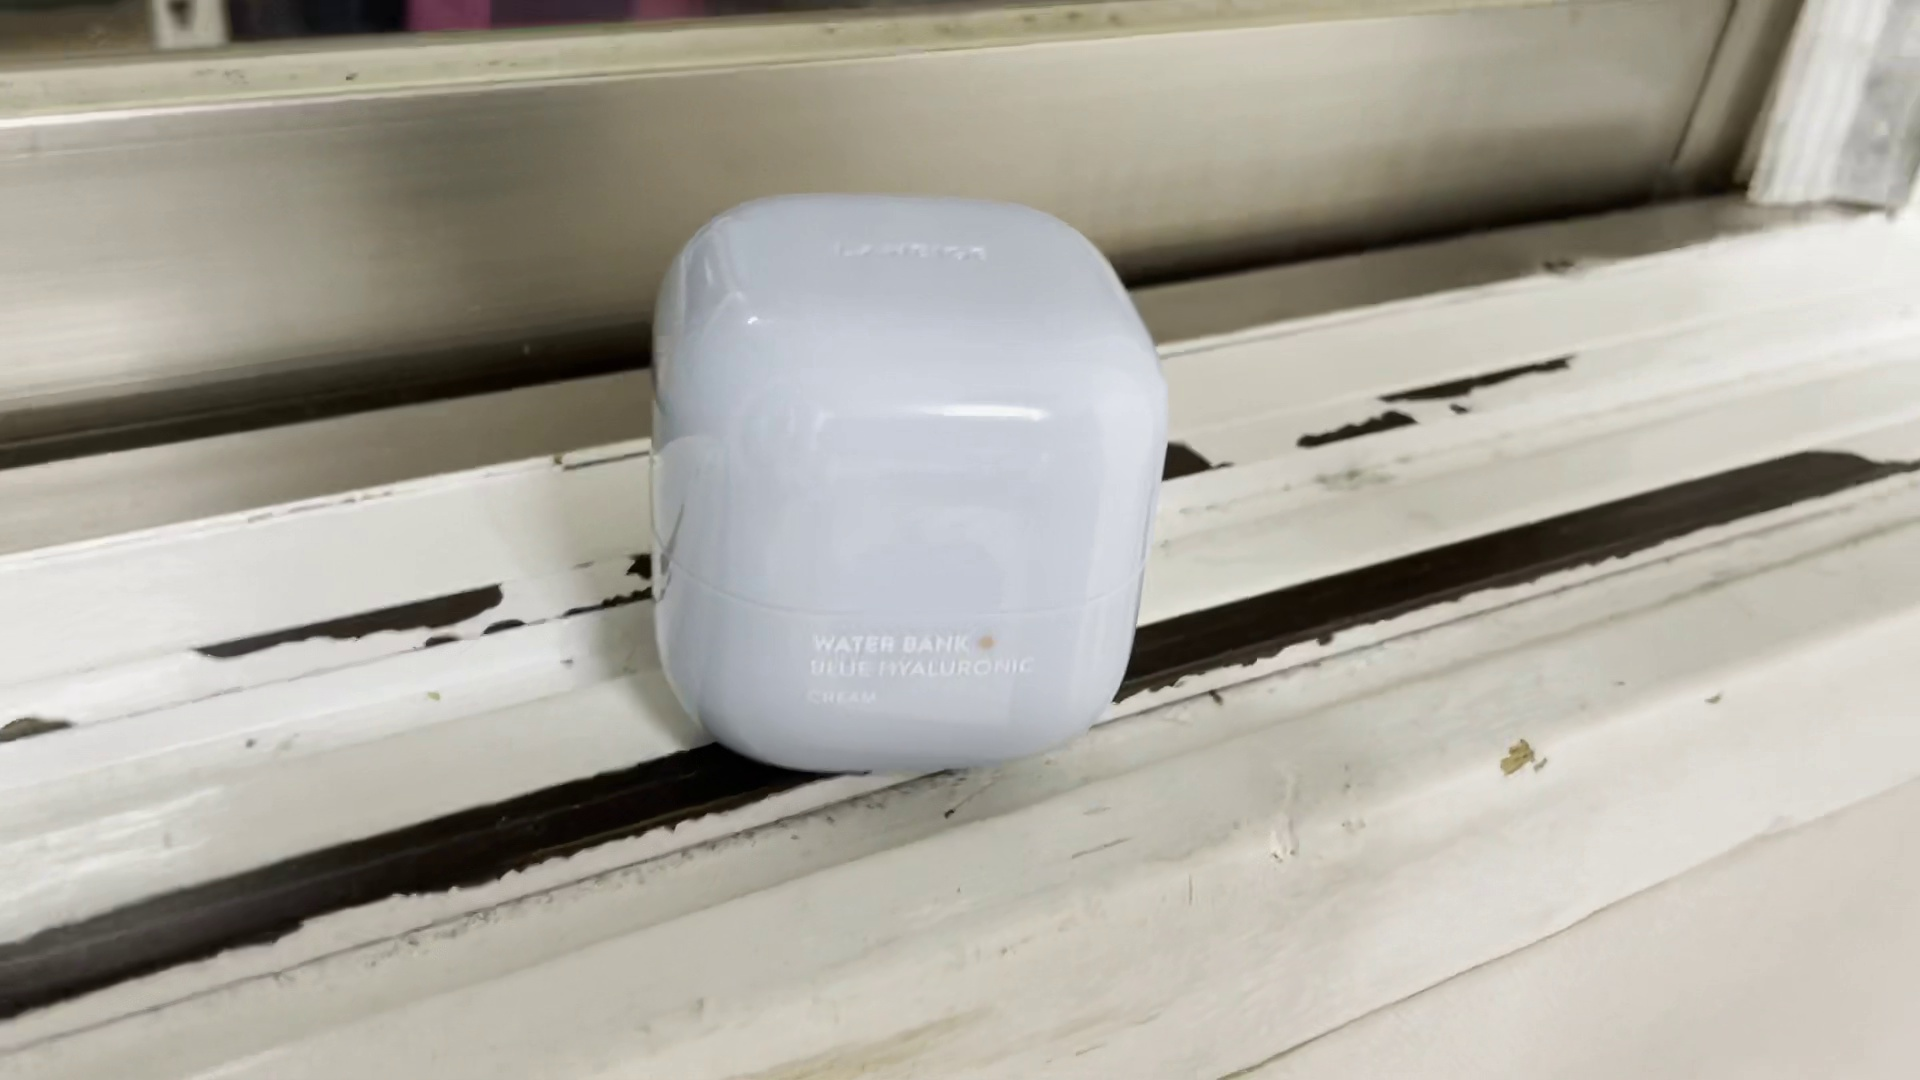cream: (642, 190, 1167, 775)
